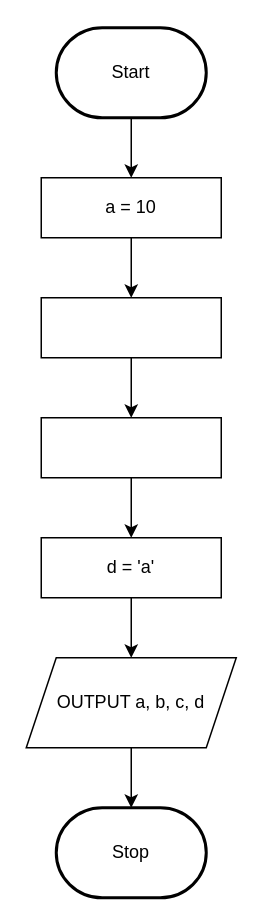
Image size: 263x924. Some labels were removed from this diagram. The shapes that lost their labels are listed below. From the top down, each one's centre as x and y in pixels, then its label:
(x=130, y=327): b = 20
(x=130, y=447): c[ ] = "Haha"
